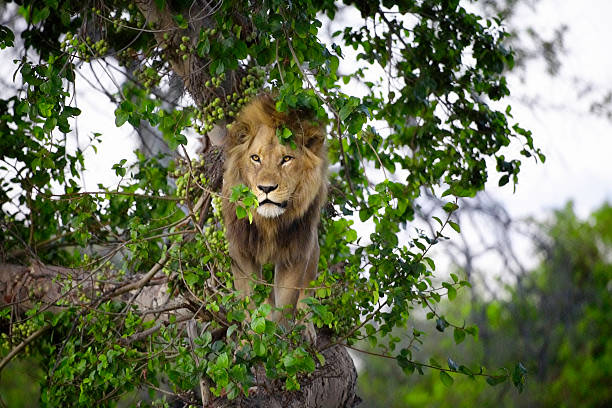lion: (214, 85, 328, 273)
